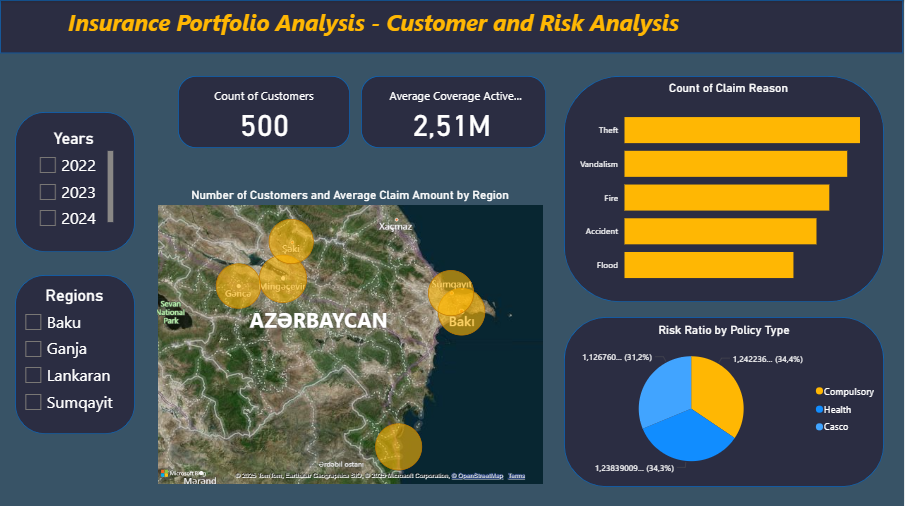

The page's visual inventory and layout, read from the dashboard file:
{"tool":"powerbi","page":{"name":"Customer and Risk Analysis","canvas":[1280,720],"ordinal":1},"visuals":[{"type":"shape","box":[252.3,107.7,243.8,102],"z":0},{"type":"shape","box":[0,0,1280,75.6],"z":1000},{"type":"cardVisual","title":"Total Customers","fields":{"Data":["CountNonNull(customers.customer_id)"]},"box":[252.5,108.2,244.3,108.2],"z":2000},{"type":"shape","box":[21.3,158.7,170.1,198.4],"z":3000},{"type":"slicer","title":"Years","fields":{"Values":["policies.start_date.Variation.Date Hierarchy.Year"]},"box":[42.5,182.8,123.3,148.8],"z":4000},{"type":"shape","box":[21.3,389.8,170.1,225.4],"z":5000},{"type":"slicer","title":"Regions","fields":{"Values":["agents.region"]},"box":[22.7,405.4,165.8,195.6],"z":6000},{"type":"map","title":"Number of Customers and Average Claim Amount by Region","fields":{"Size":["Avg(claims.claim_amount)"],"Category":["customers.city"]},"box":[218.3,266.5,555.6,423.8],"z":7000},{"type":"shape","box":[799.4,107.7,453.5,320.3],"z":8000},{"type":"shape","box":[799.4,449.3,453.5,240.9],"z":9000},{"type":"clusteredBarChart","title":"Count of Claim Reason","fields":{"Category":["claims.claim_reason"],"Y":["CountNonNull(claims.claim_reason)"]},"box":[812.1,114.8,440.8,304.7],"z":10000},{"type":"pieChart","title":"Risk Ratio by Policy Type","fields":{"Y":["_calculations.Risk Ratio1"],"Category":["policies.policy_type"]},"box":[799.4,457.8,453.5,223.9],"z":11000},{"type":"cardVisual","title":"Total Customers","fields":{"Data":["CountNonNull(customers.customer_id)"]},"box":[511.7,103.5,208.3,109.1],"z":12000},{"type":"shape","box":[511.7,107.7,262.2,102],"z":13000},{"type":"cardVisual","title":"Total Customers","fields":{"Data":["_calculations.Average Coverage Active Policies"]},"box":[518.7,107.7,243.8,109.1],"z":14000},{"type":"textbox","box":[0,4.3,1058.7,66.6],"z":15001}]}

Visuals, with their boxes in screenshot pixels (x1, y1, x2, y2), scaled from the page's 1280x720 canvas onto the 905x506 screenshot:
shape: (left=178, top=76, right=351, bottom=147)
shape: (left=0, top=0, right=904, bottom=53)
"Total Customers" cardVisual: (left=179, top=76, right=351, bottom=152)
shape: (left=15, top=112, right=135, bottom=251)
"Years" slicer: (left=30, top=128, right=117, bottom=233)
shape: (left=15, top=274, right=135, bottom=432)
"Regions" slicer: (left=16, top=285, right=133, bottom=422)
"Number of Customers and Average Claim Amount by Region" map: (left=154, top=187, right=547, bottom=485)
shape: (left=565, top=76, right=886, bottom=301)
shape: (left=565, top=316, right=886, bottom=485)
"Count of Claim Reason" clusteredBarChart: (left=574, top=81, right=886, bottom=295)
"Risk Ratio by Policy Type" pieChart: (left=565, top=322, right=886, bottom=479)
"Total Customers" cardVisual: (left=362, top=73, right=509, bottom=149)
shape: (left=362, top=76, right=547, bottom=147)
"Total Customers" cardVisual: (left=367, top=76, right=539, bottom=152)
textbox: (left=0, top=3, right=749, bottom=50)
